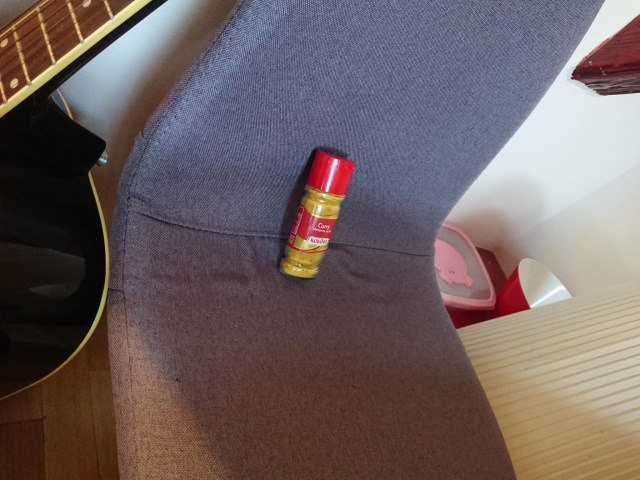Kotanyi Curry Spices Mix 70g: (275, 144, 357, 282)
